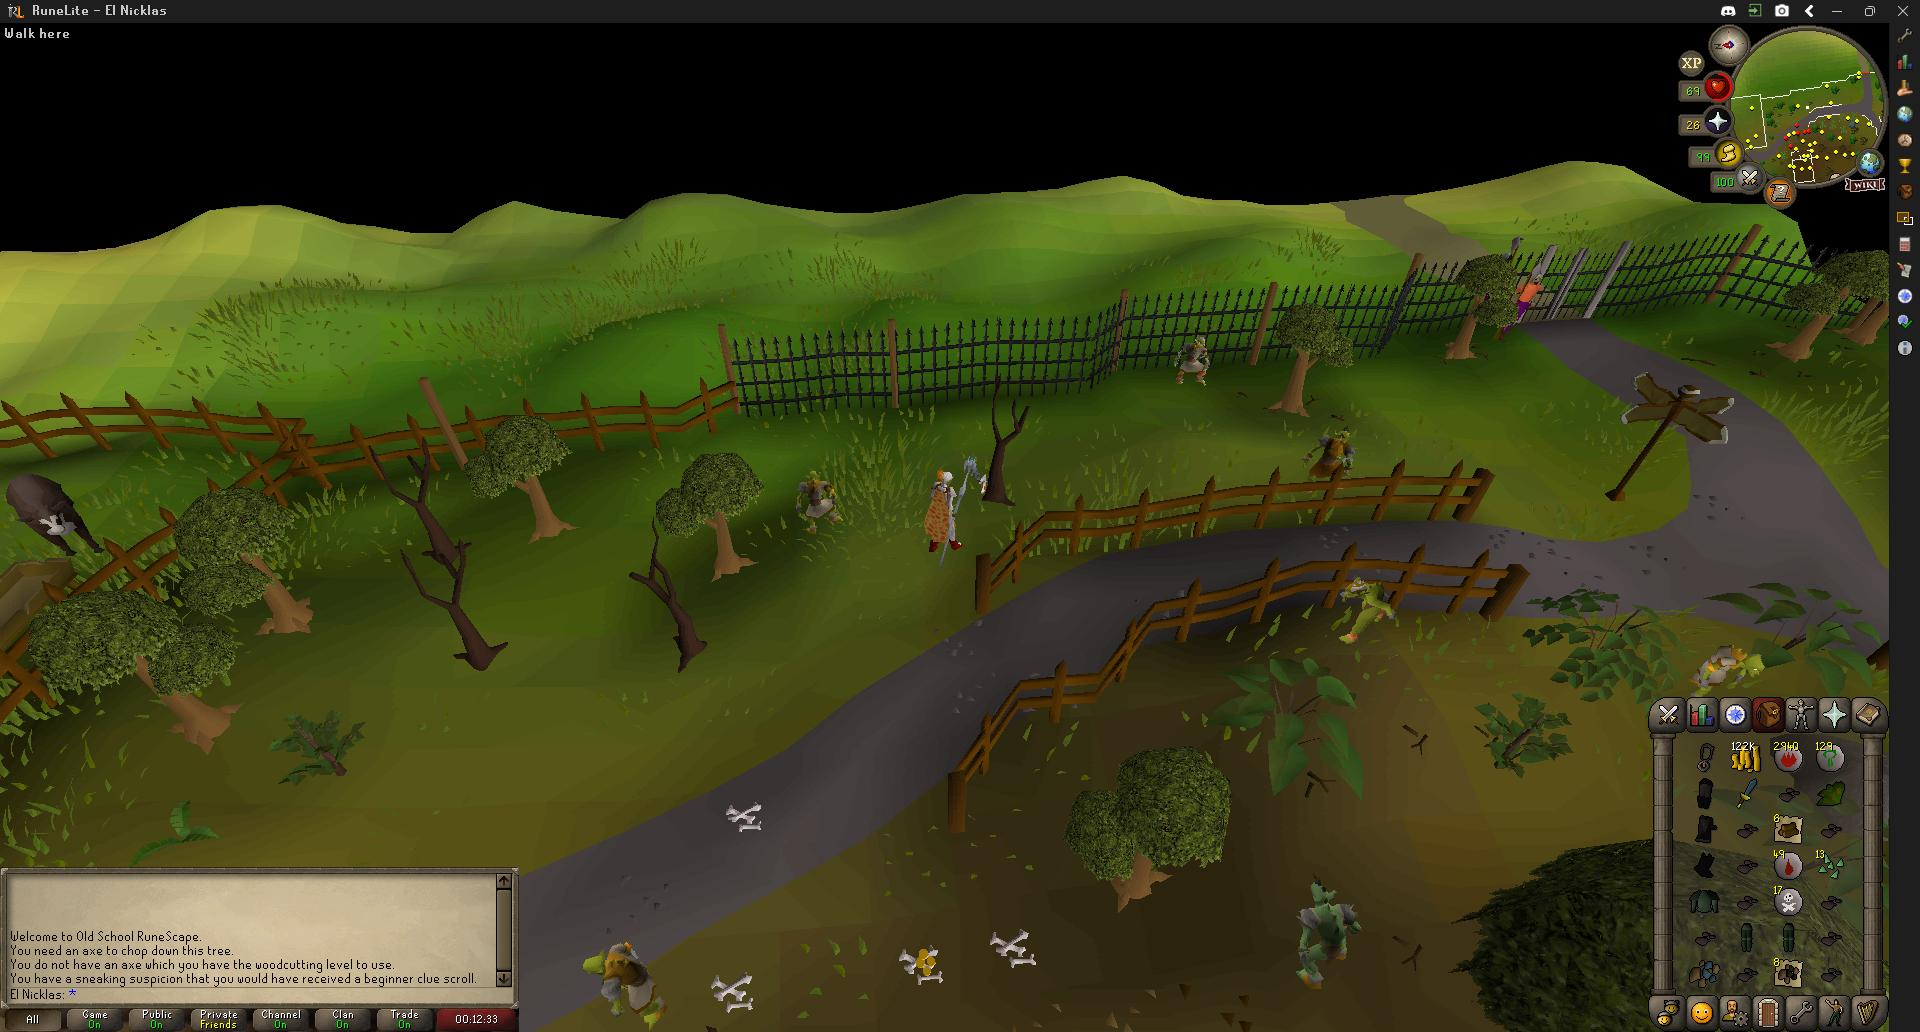Player: (923, 465, 968, 555)
goblin: (573, 938, 660, 1024), (1293, 875, 1358, 989), (1338, 578, 1401, 638), (1690, 643, 1764, 690), (1306, 426, 1354, 484), (795, 471, 840, 531), (1174, 337, 1211, 386)
